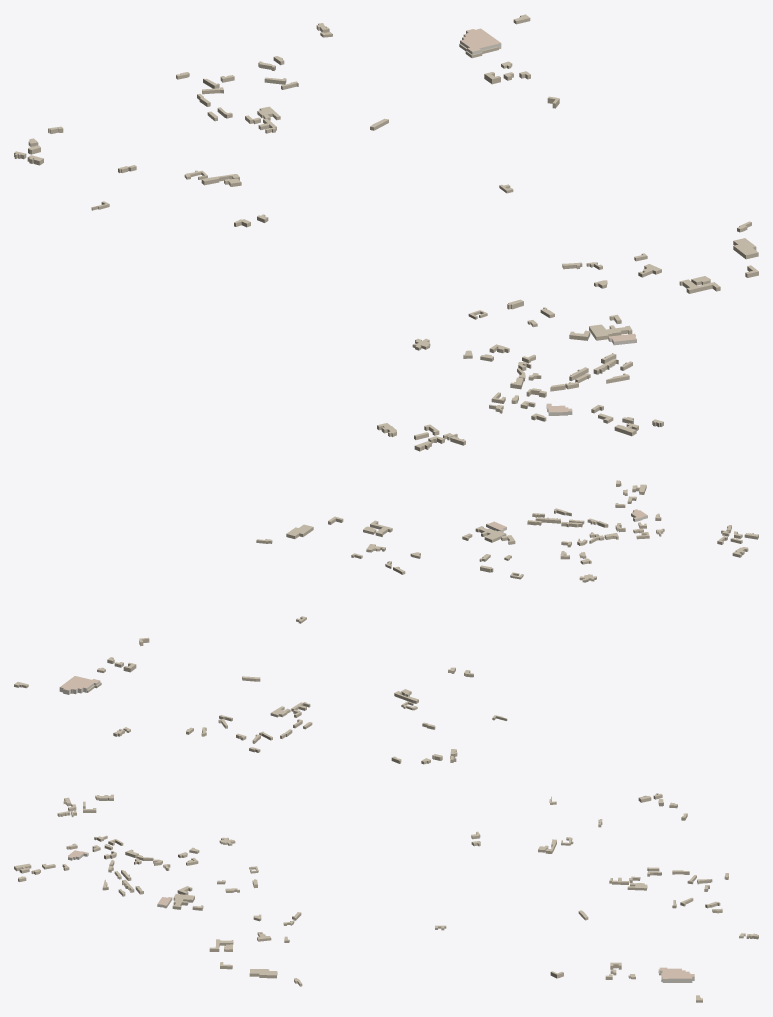
The picture shows the model from 3 angles, top to bottom: view 1: azimuth 30°, elevation 25°; view 2: azimuth 150°, elevation 25°; view 3: azimuth 270°, elevation 25°; orthographic projection. The views are drawn at different scales.
Size of the model in its own units: 1472 by 44.26 by 2343.
